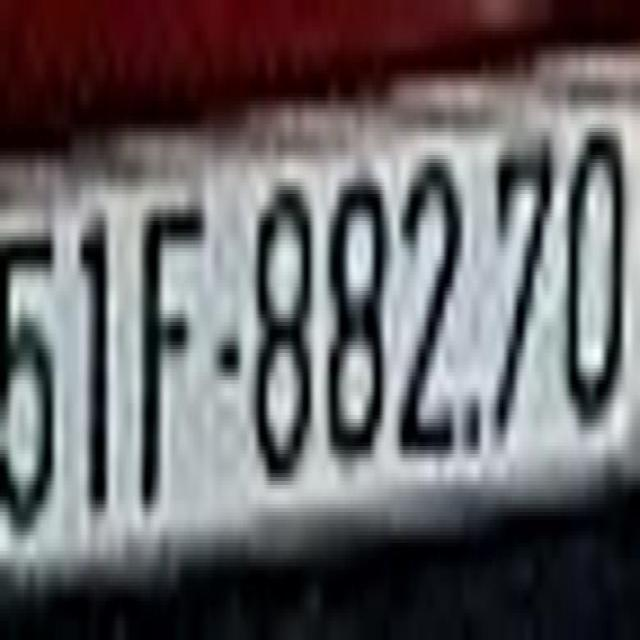0: (566, 112, 624, 434)
1: (77, 194, 113, 520)
2: (397, 143, 460, 466)
5: (0, 202, 58, 543)
7: (491, 124, 554, 446)
8: (254, 171, 313, 488), (326, 165, 385, 471)
F: (138, 184, 206, 510)
